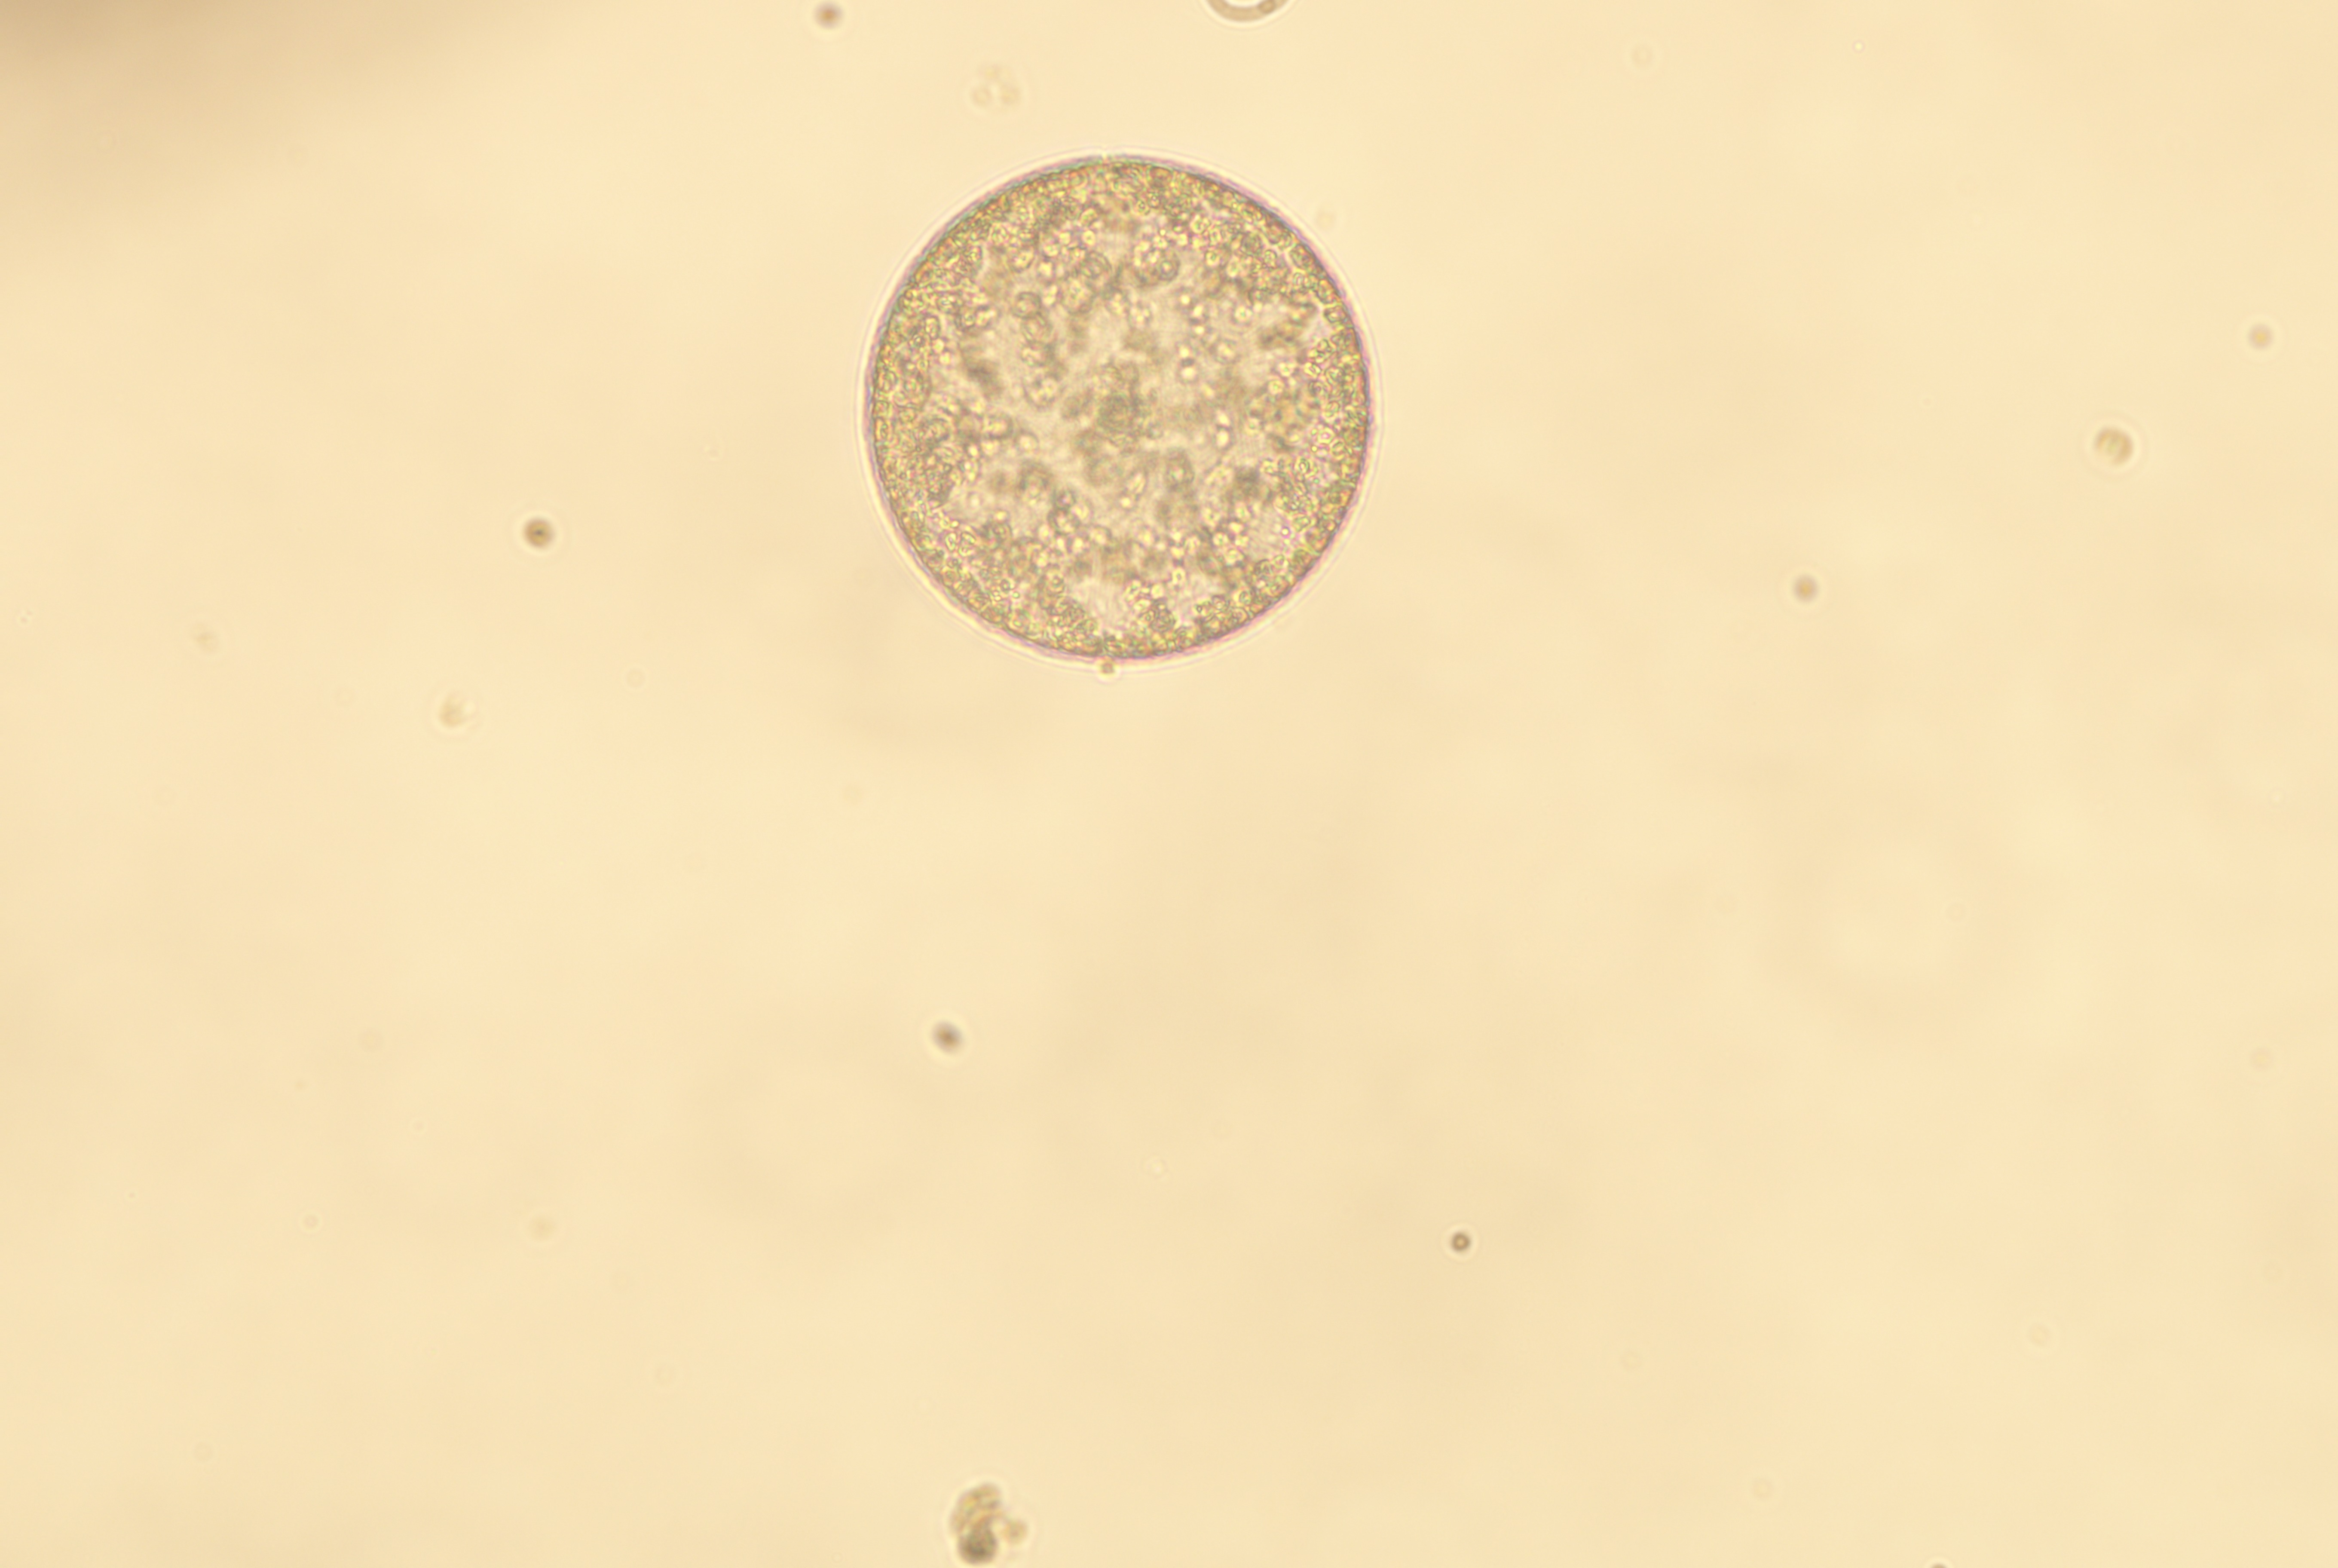coscinodiscus: (858, 143, 1384, 667)
